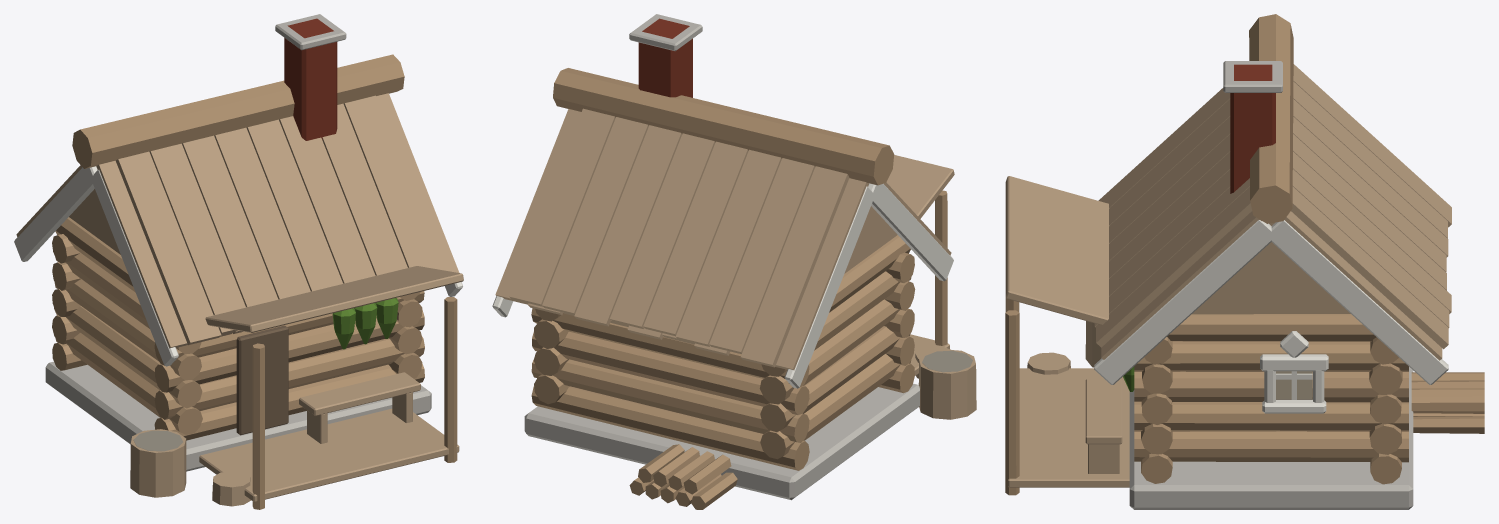
The model's file is bld_banya_e1.glb.
3 views of the same model, side by side, from view 1: azimuth 30°, elevation 25°; view 2: azimuth 150°, elevation 25°; view 3: azimuth 270°, elevation 25° (orthographic). The views are drawn at different scales.
Visible parts, largest first — view 1: banya; view 2: banya; view 3: banya.
Part boxes in pixels (x1,y1,x2,y2): banya: [14, 14, 463, 509]; banya: [492, 14, 976, 509]; banya: [1005, 14, 1484, 509].
Bounding box in the file's own units: 0.9268 × 0.97 × 1.05.
